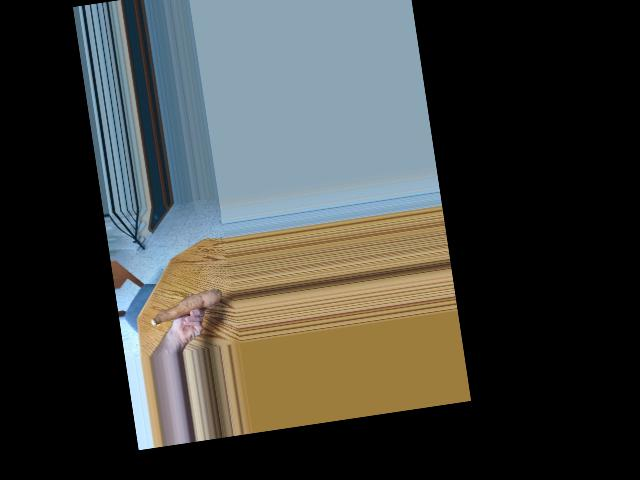sweet_potato: (148, 284, 223, 330)
